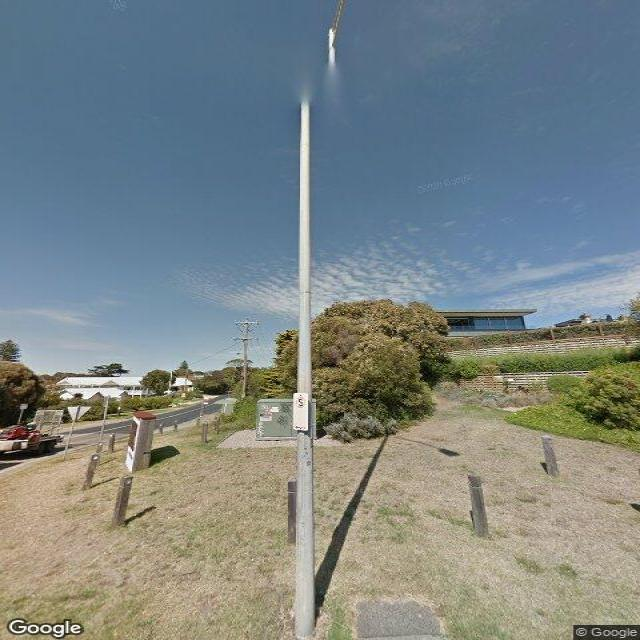concrete-pole: (295, 99, 316, 639)
top mount suitable pole: (295, 25, 336, 640)
